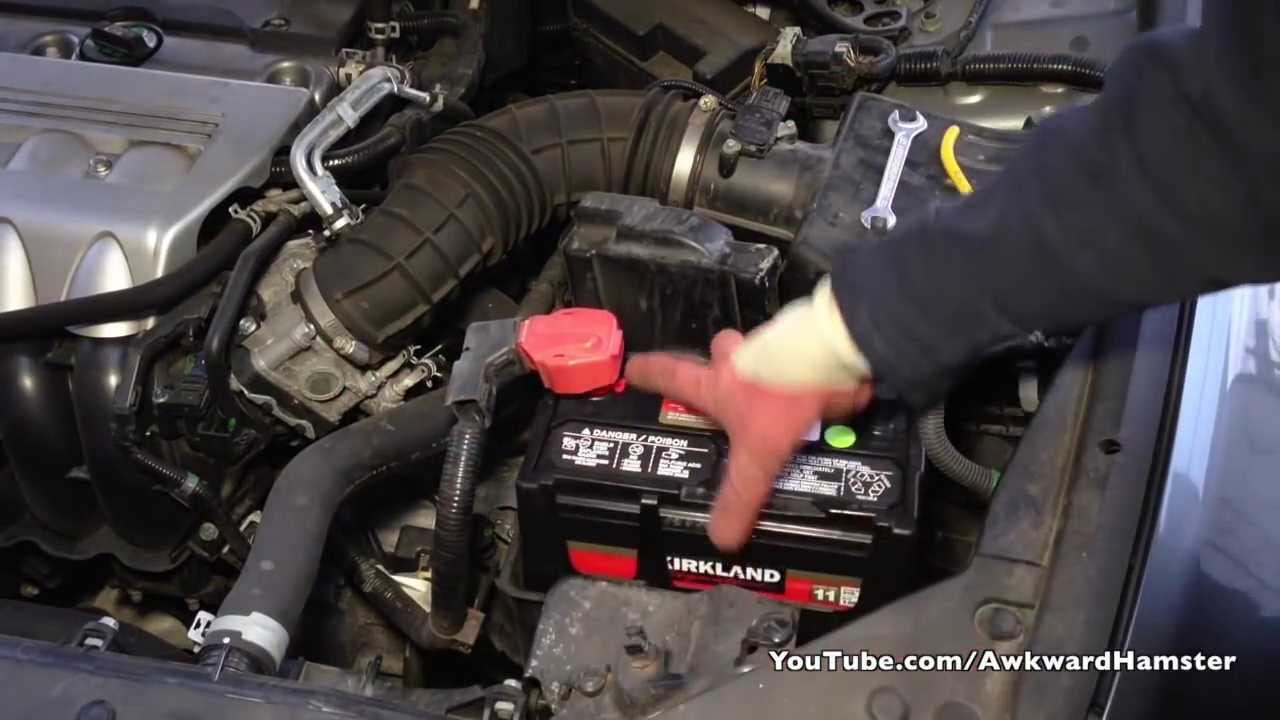battery: (518, 332, 919, 544)
pos_connected: (476, 317, 629, 419)
pos_touched: (490, 281, 753, 452)
